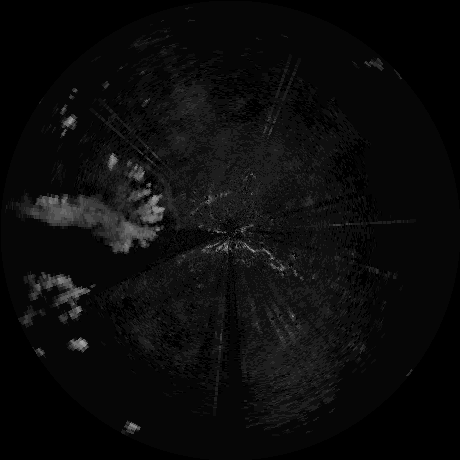frontgust: (161, 181, 182, 234)
